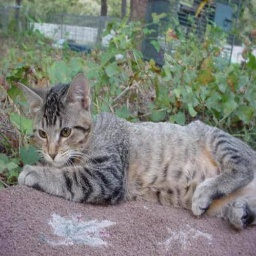cat: (13, 75, 256, 230)
